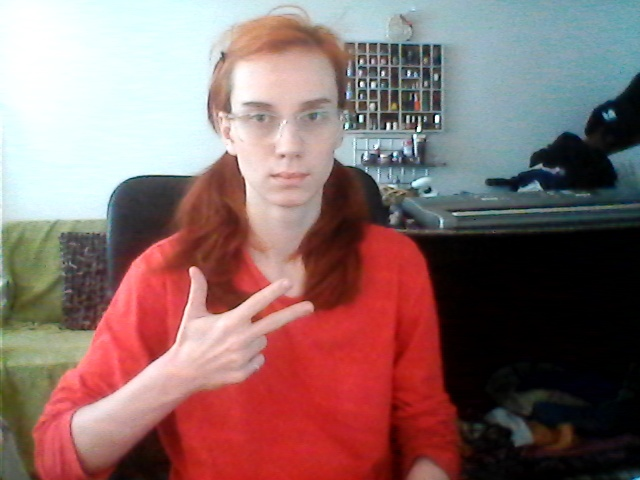tri: (175, 261, 321, 392)
